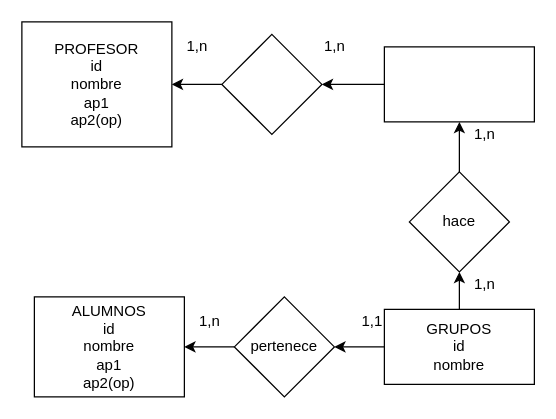
Image size: 556x419. Some labels were removed from this diagram. The centre of each missing label's shape, as x and y in pixels:
"ASIGNATURA id nombre" belongs at point (458, 84).
"imparte" belongs at point (271, 83).
